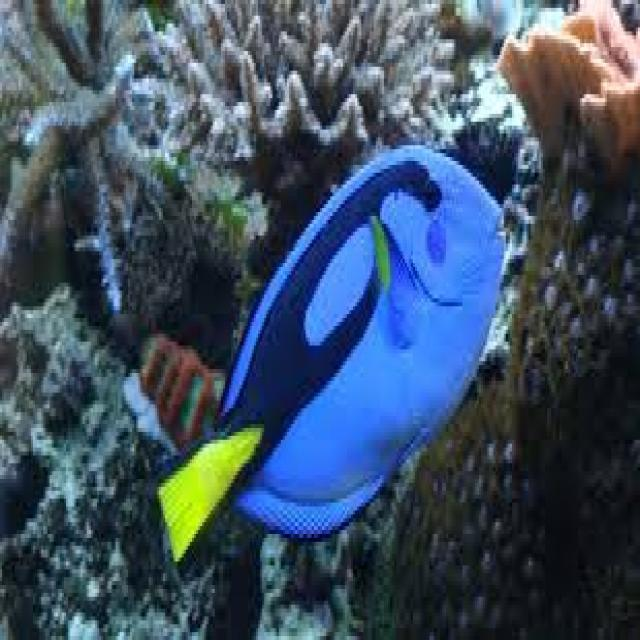TangFish: (153, 144, 510, 564)
